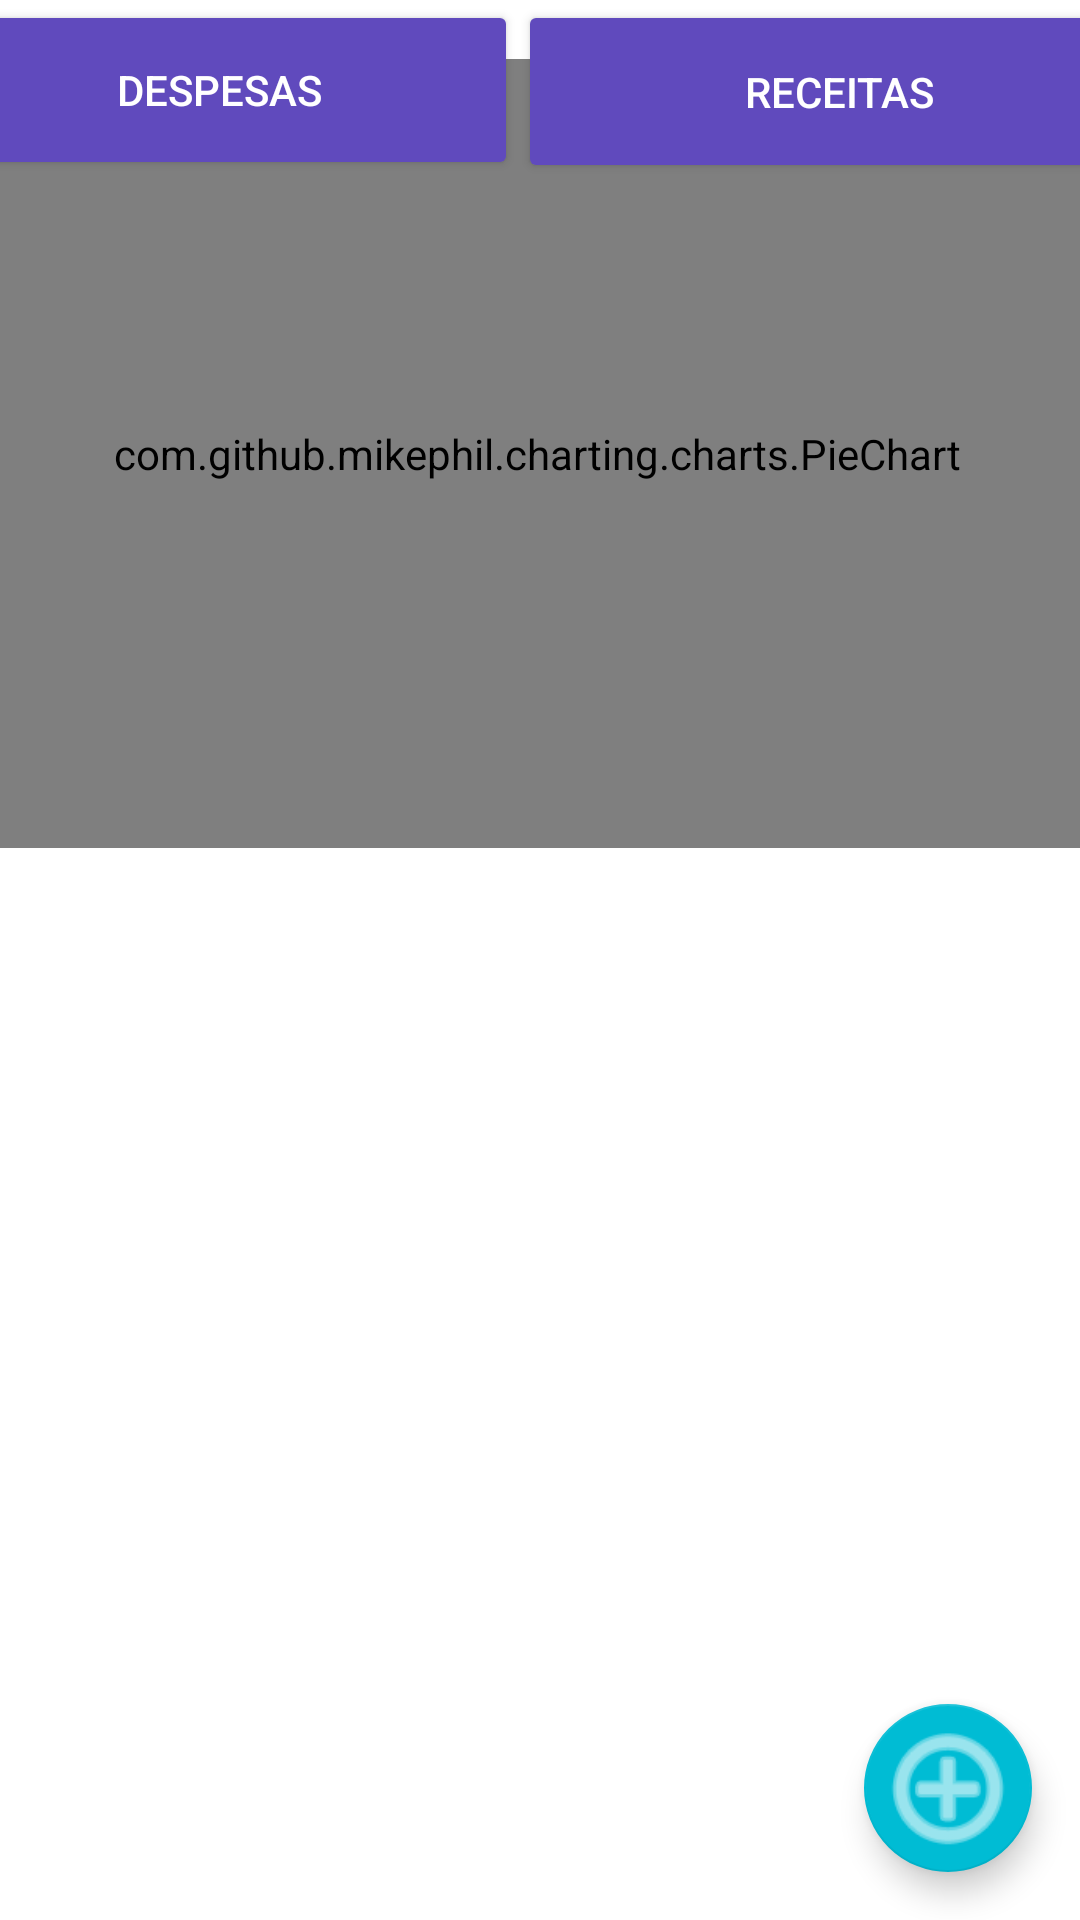

Point at icon controls on the screen. Image size 1080*1920, points as (x,y).
Adicionar Transação: (948,1788)
